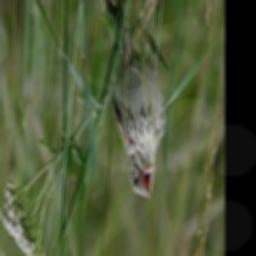Sparrow: (101, 0, 167, 200)
